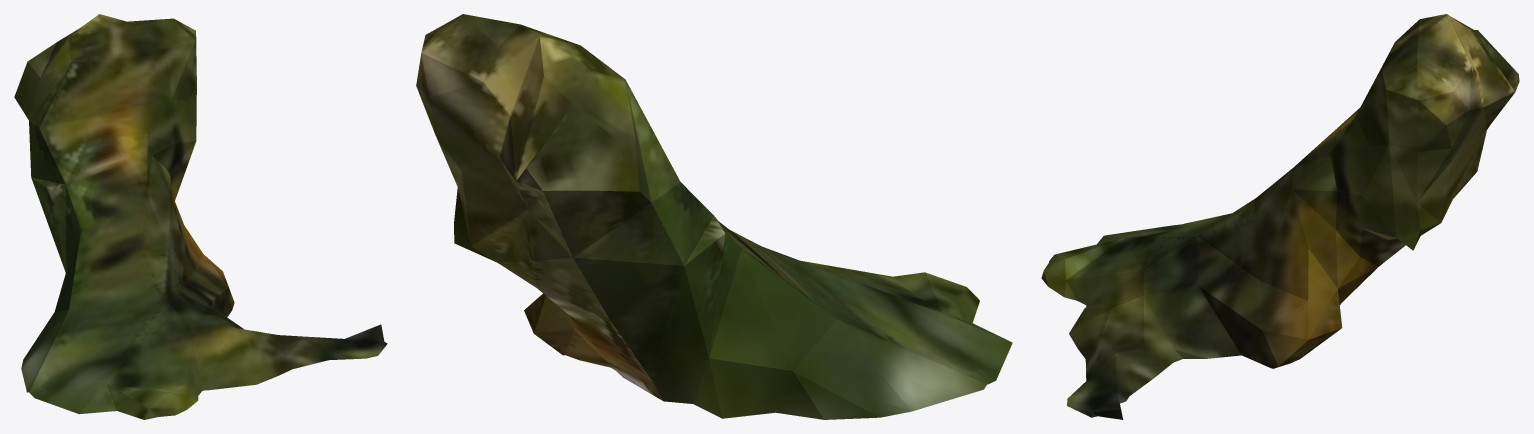
3 views of the same model, side by side, from view 1: azimuth 30°, elevation 25°; view 2: azimuth 150°, elevation 25°; view 3: azimuth 270°, elevation 25° (orthographic). The views are drawn at different scales.
Size of the model in its own units: 0.3616 by 0.274 by 0.3741.
Materials: 1 (1 with a texture image).
